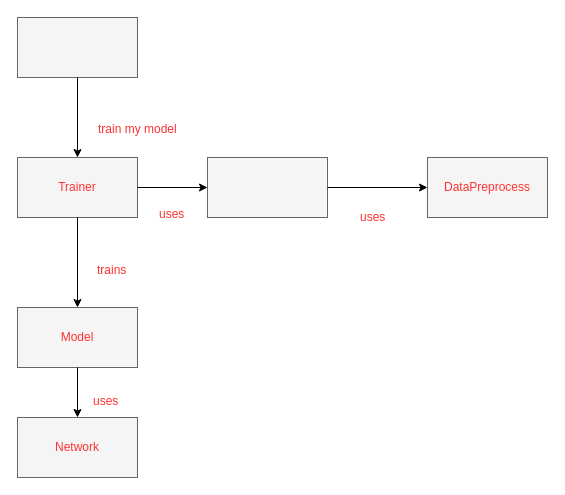
This 565x495 diagram has some shape labels left out. The shapes that lost their labels are listed below. From the top down, each one's centre as x and y in pixels, then its label:
At point (77, 47): "main.py".
At point (267, 187): "DataFeeder".
